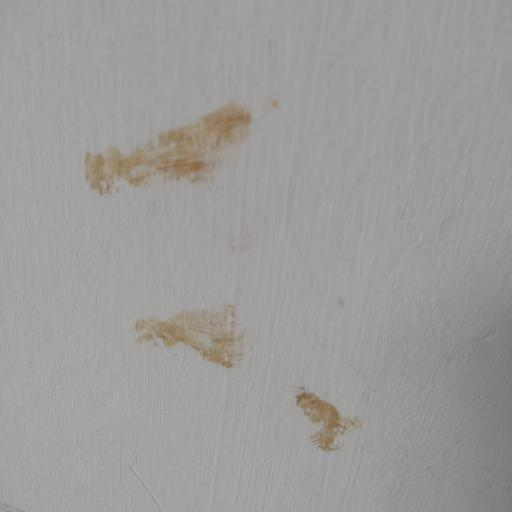stain: (63, 97, 283, 209), (124, 281, 257, 392), (295, 376, 371, 457), (331, 284, 356, 324)
